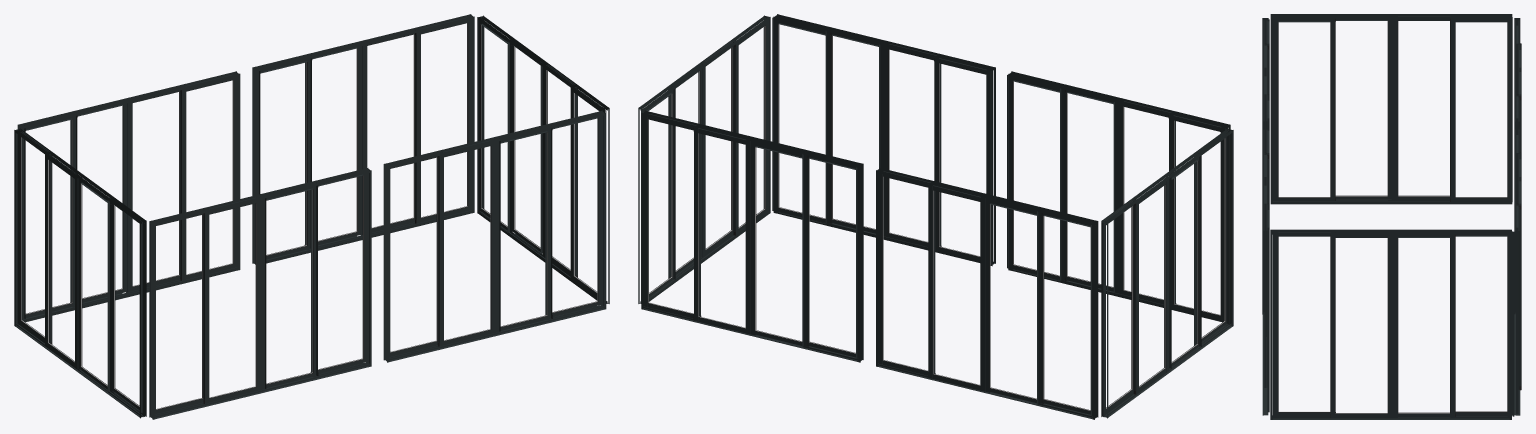
The picture shows the model from 3 angles, left to right: view 1: azimuth 30°, elevation 25°; view 2: azimuth 150°, elevation 25°; view 3: azimuth 270°, elevation 25°; orthographic projection. The views are drawn at different scales.
Visible parts, largest first — view 1: priximbattable_net_pergola_aluminium_1282_pergola_aluminium_, folha2_2, folha2, folha1_4, folha3_2, folha4_5, folha1_5, folha3, folha3_3, folha2_3, folha1_3, folha2_4 (+13 smaller); view 2: priximbattable_net_pergola_aluminium_1282_pergola_aluminium_, folha2_5, folha2_4, folha4, folha3_5, folha3_4, folha4_2, folha1, folha2_3, folha1_6, folha2_2, folha4_4 (+13 smaller); view 3: priximbattable_net_pergola_aluminium_1282_pergola_aluminium_, folha2_6, folha4_3, folha1_3, folha3_6, folha2_3, folha1_6, folha4_6, folha3_3, folha2_5, folha1_5, folha4 (+1 smaller).
Part boxes in pixels (x1,y1,x2,y2): priximbattable_net_pergola_aluminium_1282_pergola_aluminium_: (14, 14, 609, 419); folha2_2: (203, 196, 262, 403); folha2: (438, 139, 496, 346); folha1_4: (180, 73, 237, 280); folha3_2: (260, 183, 318, 388); folha4_5: (253, 55, 312, 263); folha1_5: (415, 16, 471, 223); folha3: (495, 125, 552, 331); folha3_3: (77, 176, 112, 392); folha2_3: (45, 152, 79, 369); folha1_3: (18, 131, 52, 344); folha2_4: (126, 90, 180, 292); priximbattable_net_pergola_aluminium_1282_pergola_aluminium_: (638, 14, 1233, 419); folha2_5: (693, 127, 752, 334); folha2_4: (928, 184, 986, 391); folha4: (772, 17, 831, 223); folha3_5: (750, 141, 808, 347); folha3_4: (985, 198, 1042, 404); folha4_2: (1007, 75, 1065, 281); folha1: (934, 57, 991, 264); folha2_3: (1133, 177, 1168, 394); folha1_6: (733, 18, 768, 235); folha2_2: (1117, 100, 1176, 304); folha4_4: (1039, 209, 1097, 416); priximbattable_net_pergola_aluminium_1282_pergola_aluminium_: (1262, 14, 1520, 419); folha2_6: (1330, 233, 1394, 417); folha4_3: (1273, 18, 1335, 200); folha1_3: (1450, 17, 1512, 202); folha3_6: (1394, 234, 1455, 417); folha2_3: (1391, 16, 1450, 200); folha1_6: (1273, 232, 1335, 416); folha4_6: (1455, 231, 1514, 416); folha3_3: (1335, 18, 1391, 200); folha2_5: (1518, 179, 1521, 390); folha1_5: (1516, 203, 1518, 414); folha4: (1267, 203, 1269, 412).
Bounding box in the file's own units: 599 × 240 × 301.
1 material, 1 textured.
